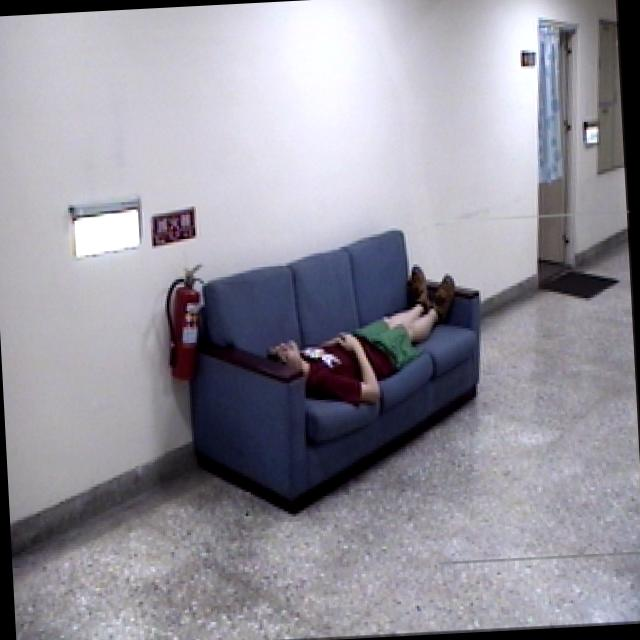lie: (254, 254, 470, 416)
